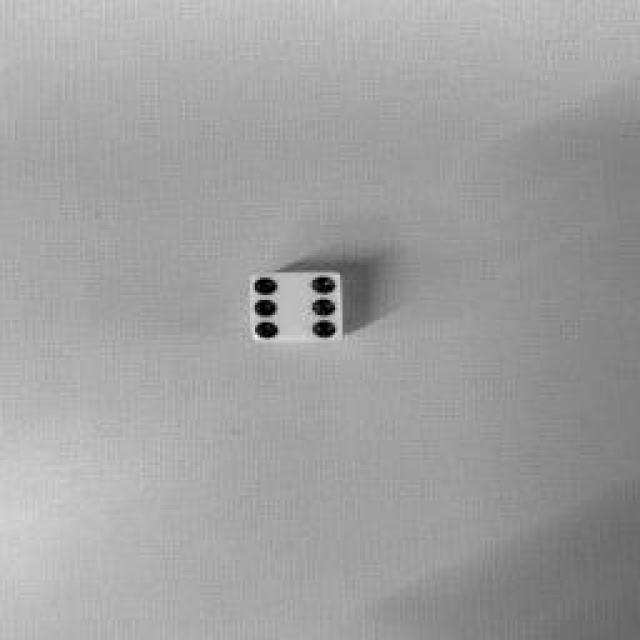dice_6: (250, 272, 342, 342)
